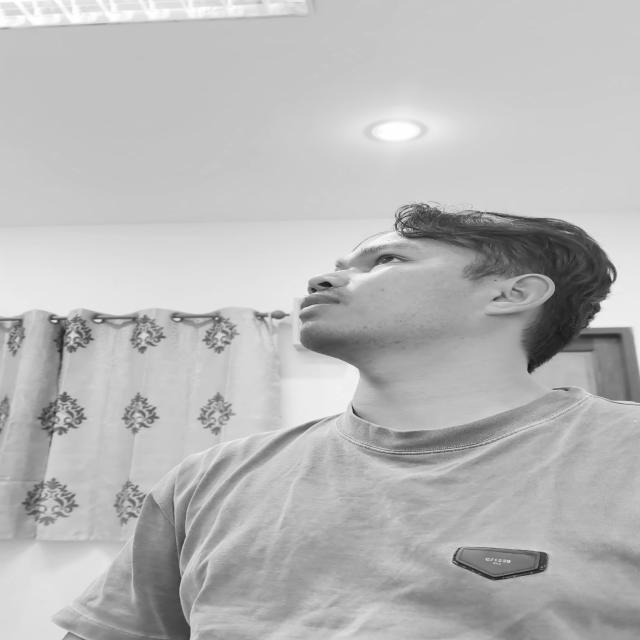ear: (484, 274, 555, 315)
